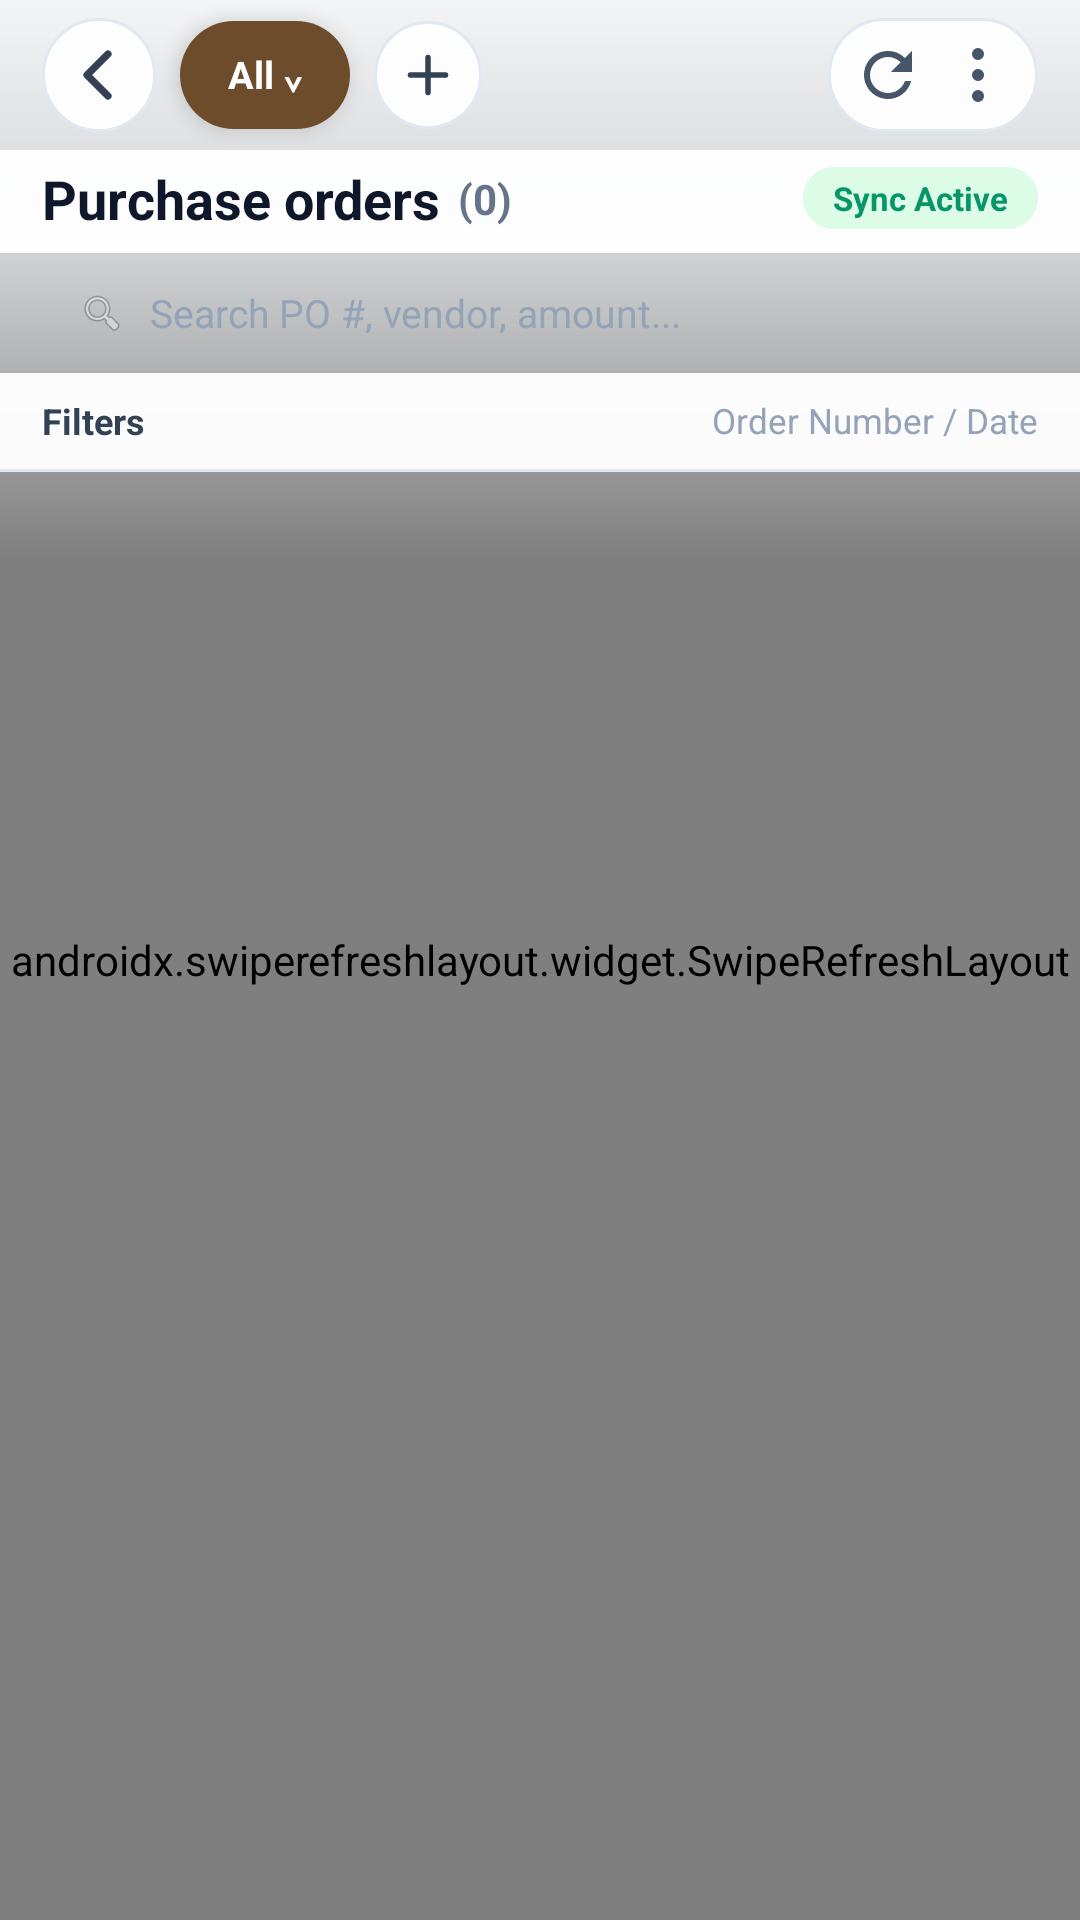

Where icons sit on this 1080px×1920px app screen, as (x1, y1, x2, y2):
Back: (45, 21, 153, 129)
More: (972, 48, 984, 102)
New PO: (377, 24, 479, 126)
